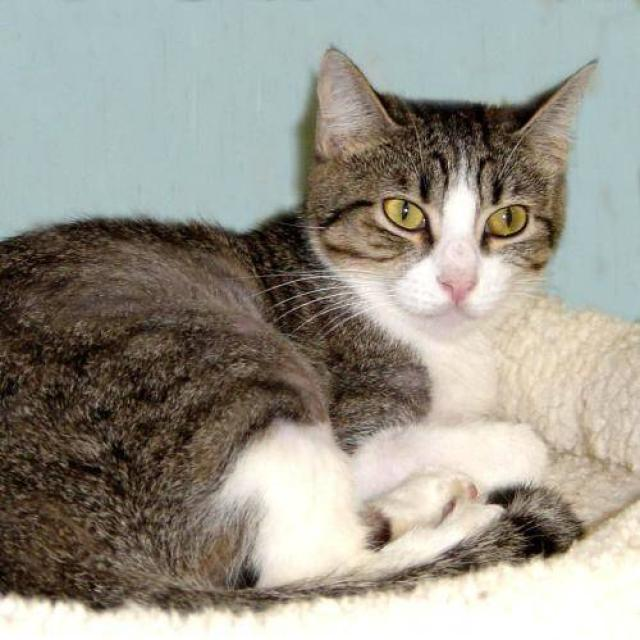cat: (0, 44, 599, 613)
